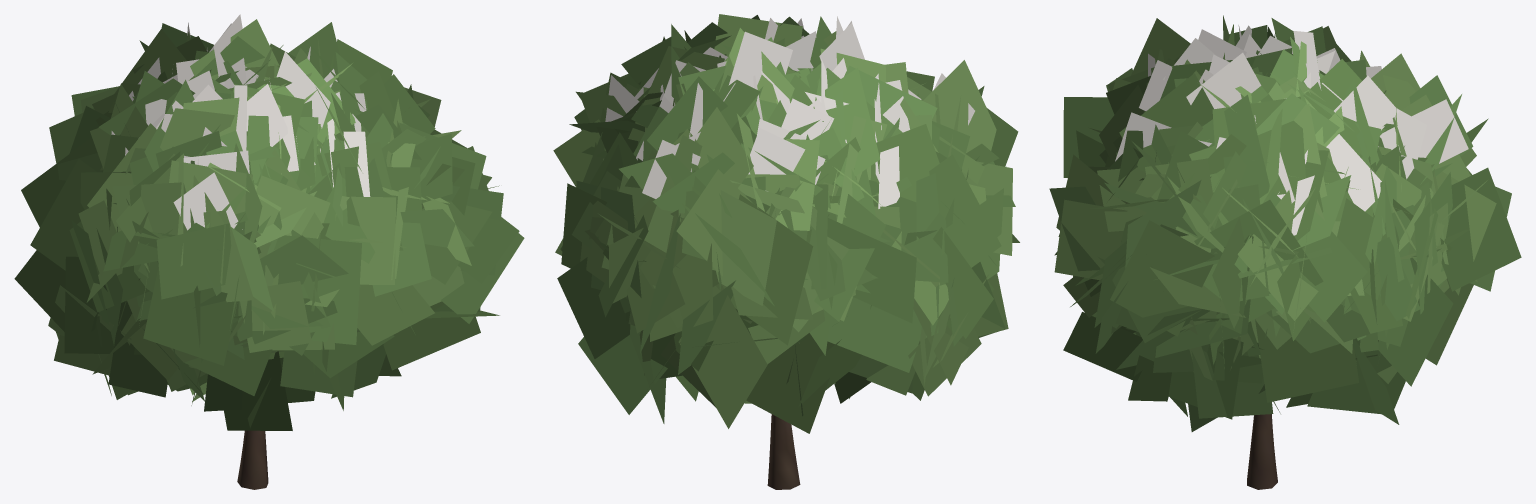
The model's file is chestnut_0.glb.
The picture shows the model from 3 angles, left to right: view 1: azimuth 30°, elevation 25°; view 2: azimuth 150°, elevation 25°; view 3: azimuth 270°, elevation 25°; orthographic projection. The views are drawn at different scales.
Parts seen in each view (by area): view 1: chestnut_0; view 2: chestnut_0; view 3: chestnut_0.
Boxes of the visible parts, x1,y1,x2,y2 form: chestnut_0: (14, 14, 524, 489); chestnut_0: (553, 14, 1019, 489); chestnut_0: (1049, 15, 1521, 489).
Bounding box in the file's own units: 1 × 1 × 0.9371.
